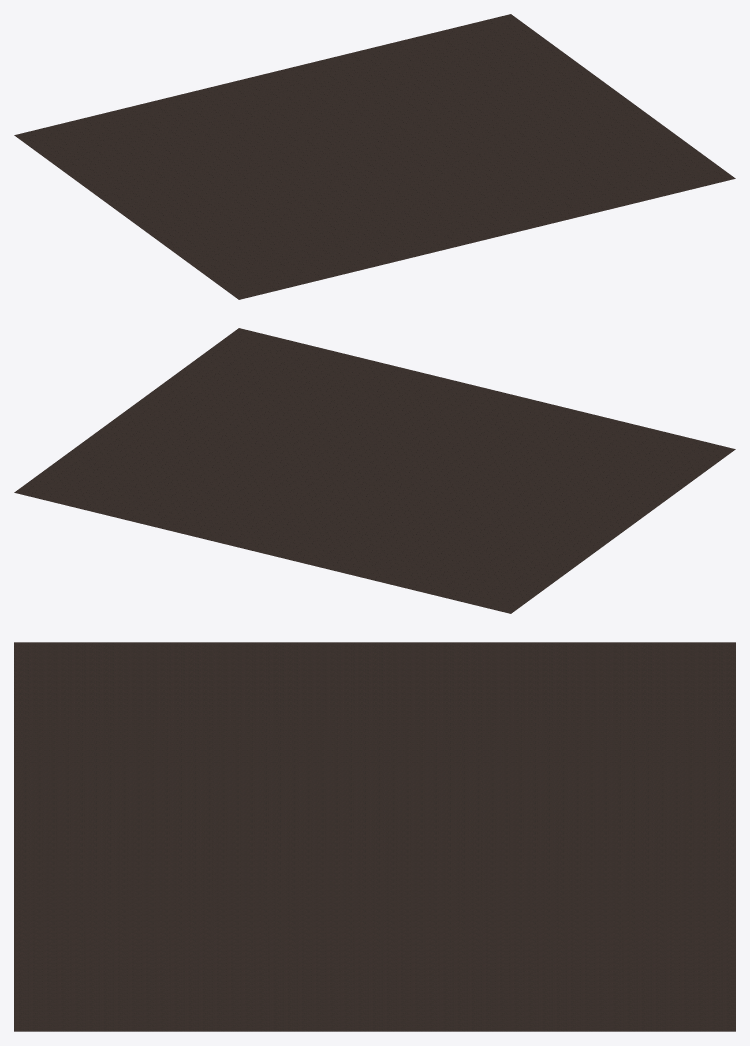
Rendered from ceiling option 1.fbx.
3 views of the same model, one above another, from view 1: azimuth 30°, elevation 25°; view 2: azimuth 150°, elevation 25°; view 3: azimuth 270°, elevation 25° (orthographic). The views are drawn at different scales.
Visible parts, largest first — view 1: Ceilng; view 2: Ceilng; view 3: Ceilng.
Boxes of the visible parts, left/top/right/bottom form: Ceilng: left=14, top=14, right=735, bottom=299; Ceilng: left=14, top=328, right=735, bottom=613; Ceilng: left=14, top=642, right=735, bottom=1031.
Size of the model in its own units: 22251 by 0.00289 by 17450.
Materials: 1 (1 with a texture image).
